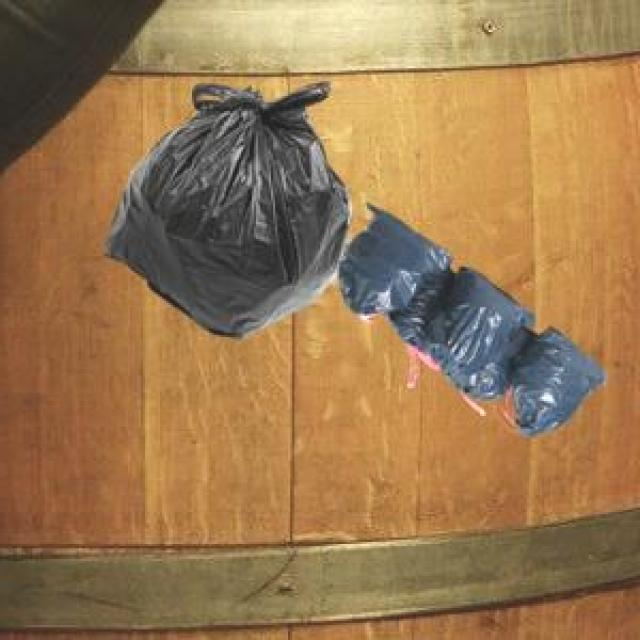Trashbag: (102, 107, 352, 335), (427, 276, 532, 382), (342, 214, 446, 317), (516, 332, 605, 424)
